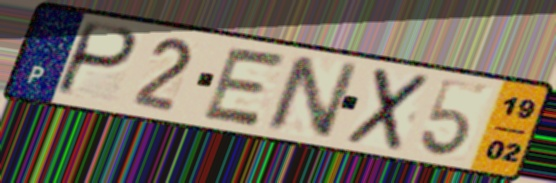2: (128, 36, 196, 115)
5: (417, 75, 498, 160)
E: (197, 44, 293, 130)
N: (262, 53, 364, 142)
P: (50, 19, 142, 100)
X: (341, 65, 435, 154)
